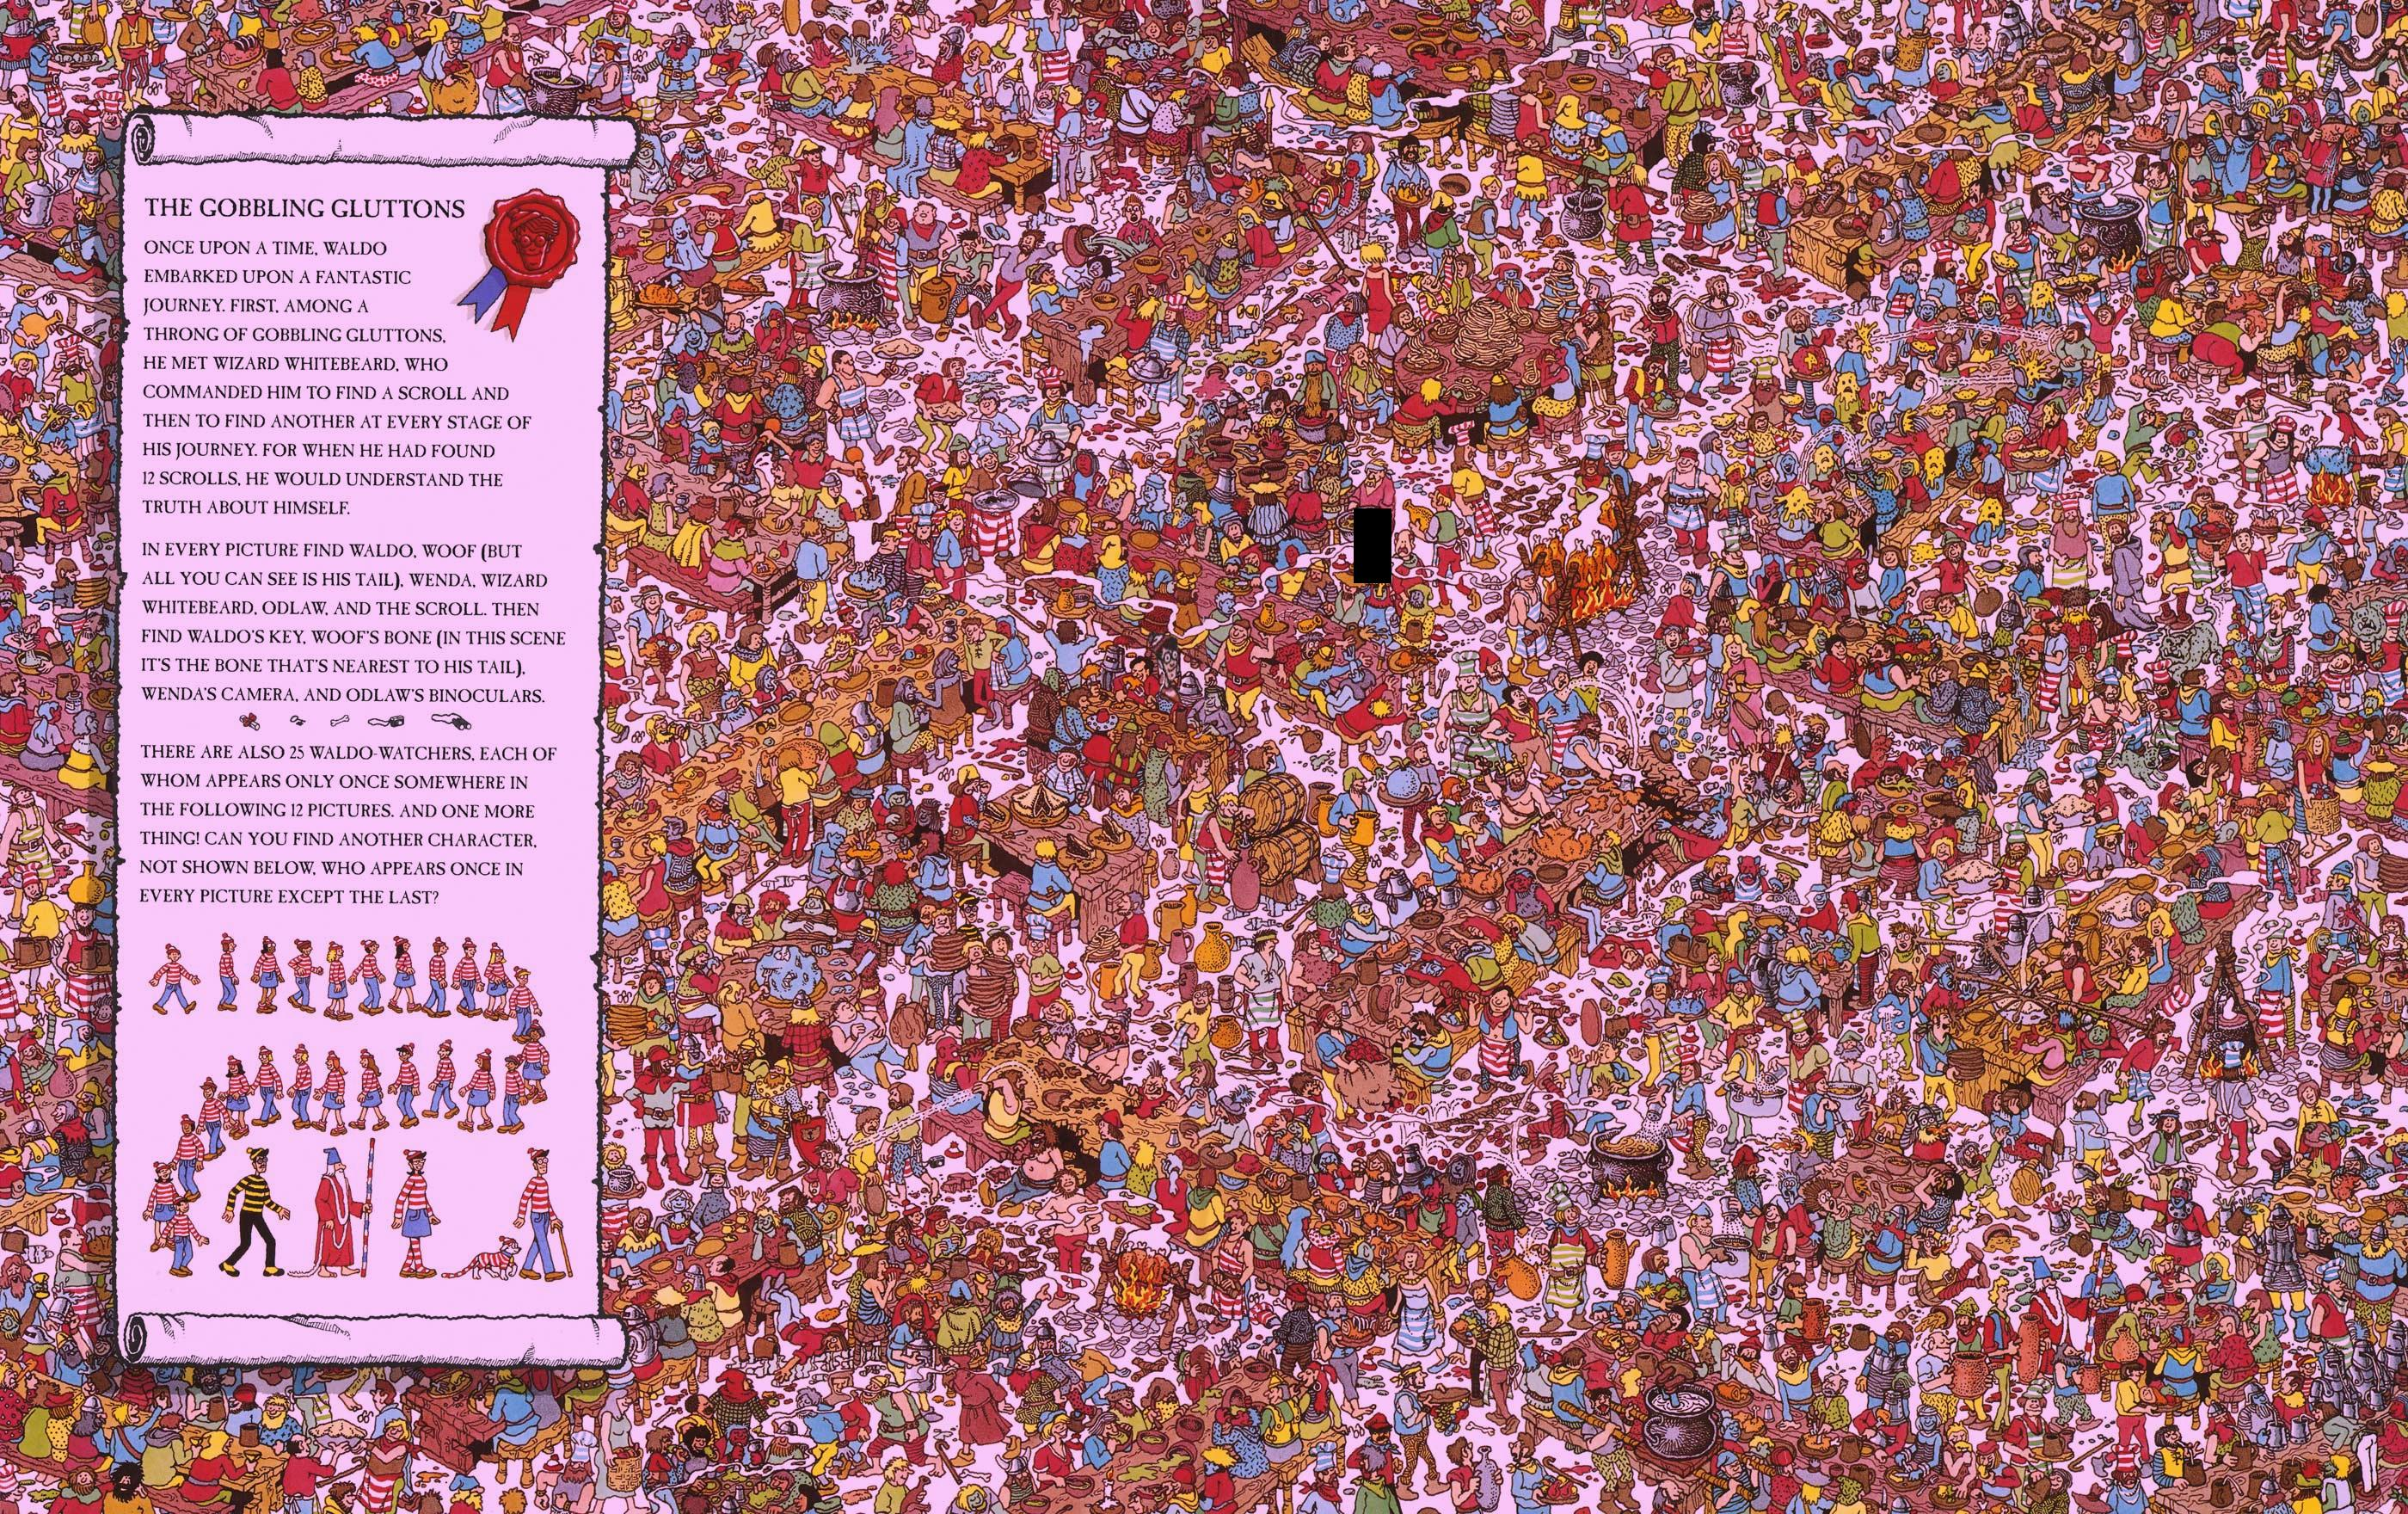waldos: (1144, 628, 1182, 703)
